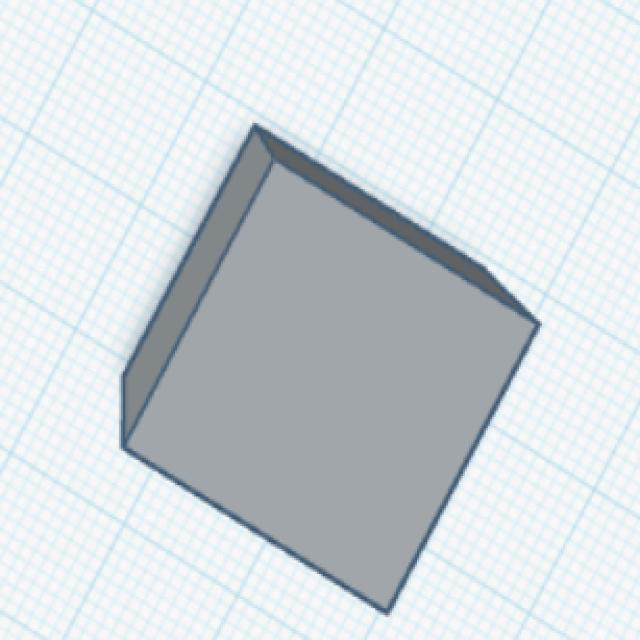cube: (116, 118, 545, 620)
